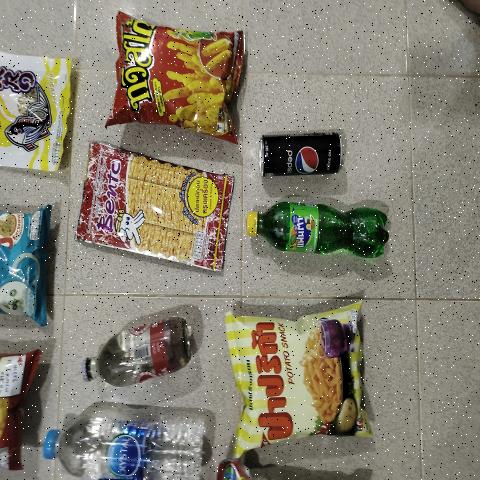bento_red: (81, 140, 237, 276)
crystal: (43, 414, 214, 478)
fanta_green: (246, 202, 392, 263)
paprika: (229, 318, 363, 438)
pepsi_black: (260, 133, 342, 175)
singha_soda: (80, 324, 207, 386)
twisco: (118, 14, 242, 134)
